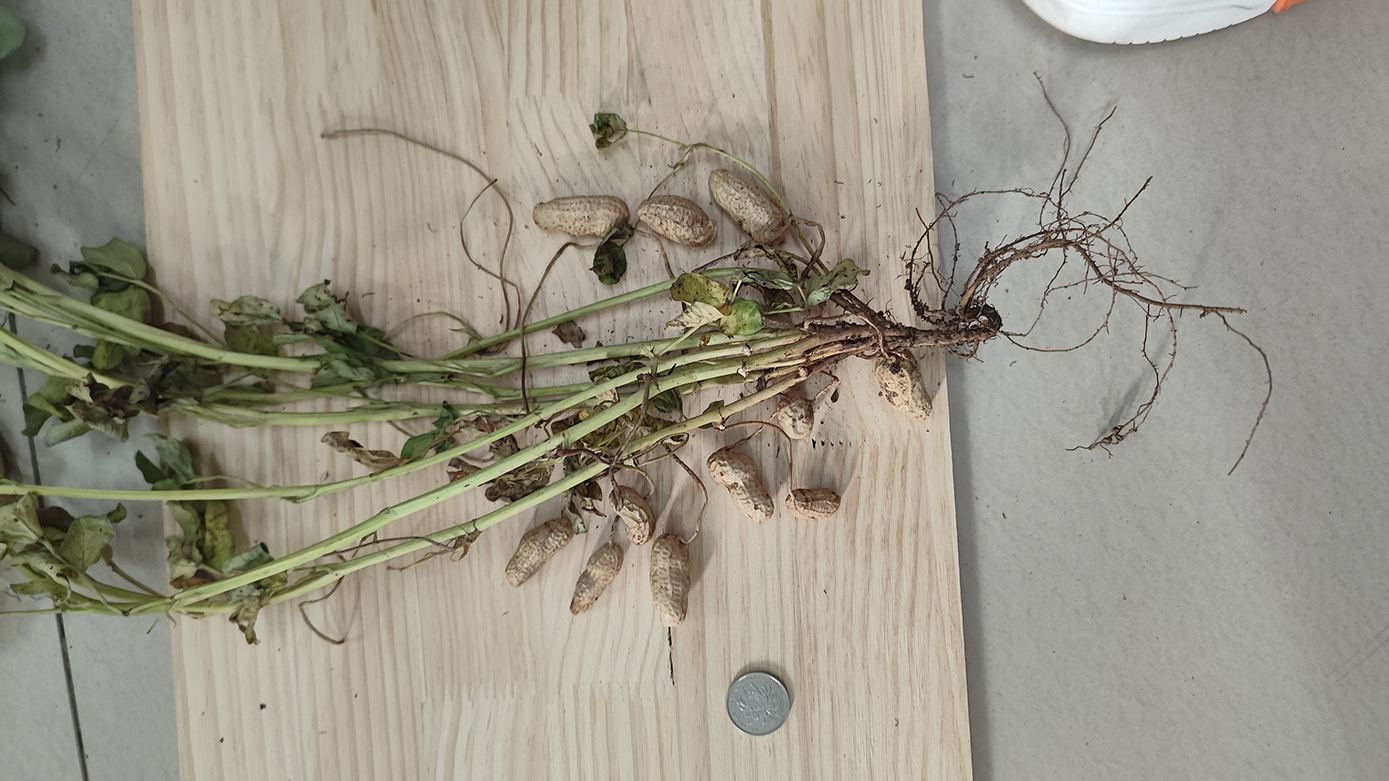h: (708, 168, 787, 243), (505, 517, 574, 588), (708, 447, 775, 520), (637, 194, 718, 247), (532, 193, 629, 236), (876, 346, 933, 419), (570, 544, 624, 616), (648, 534, 690, 625), (608, 485, 656, 547), (777, 390, 816, 439), (785, 487, 841, 519)
